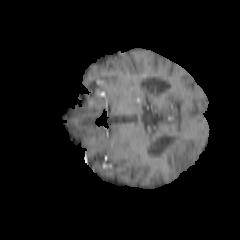glioma: (161, 136, 199, 173)
